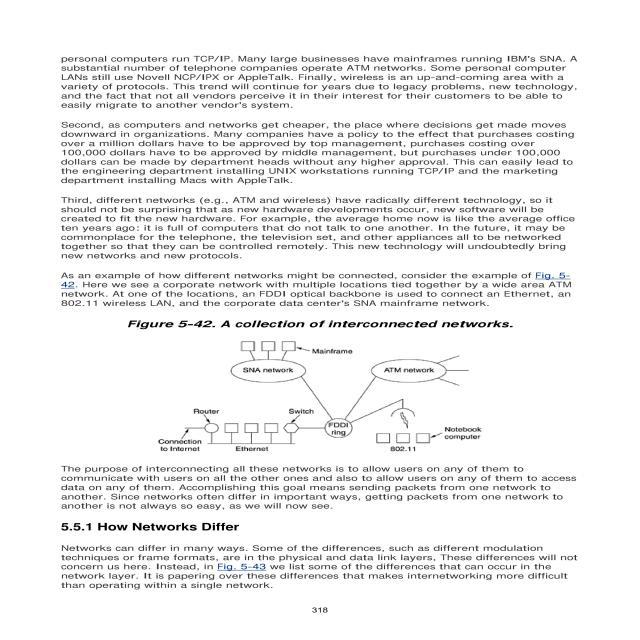diagram: (101, 316, 594, 456)
